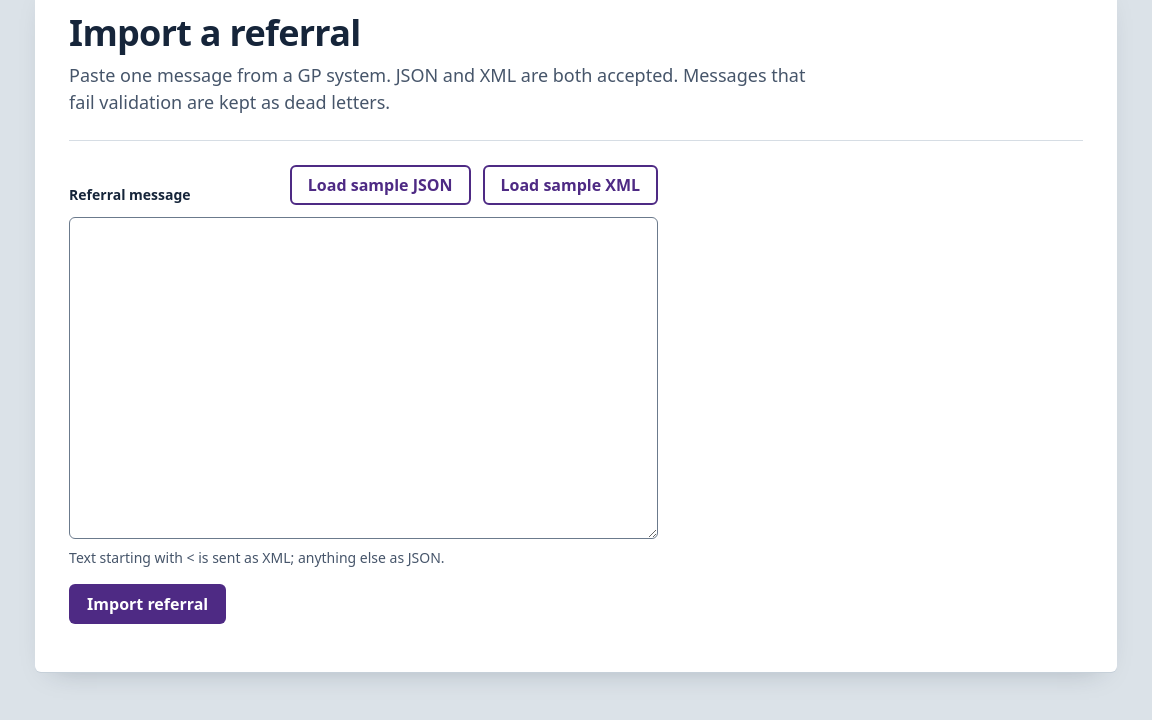
Test: import page › asks for a message before sending anything
(page scrolled)
Click the button "Import referral": (148,604) [69, 584, 226, 624]
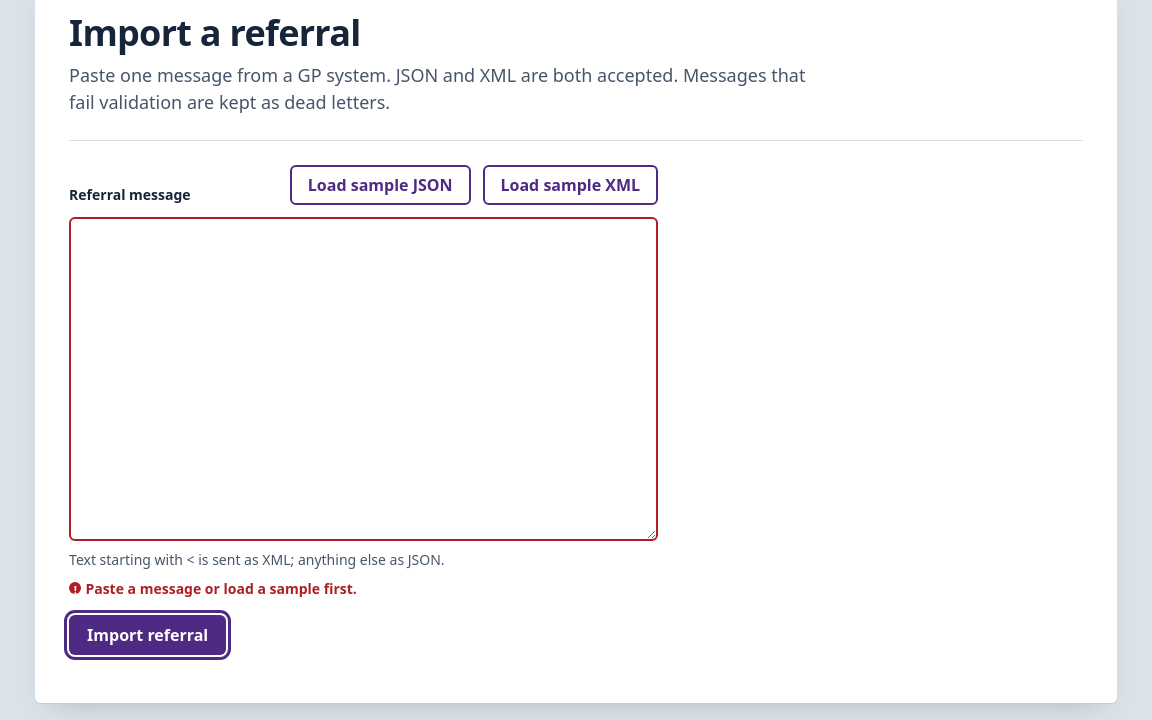
Result: the text "Paste a message or load a sample first." is shown at [85, 579, 357, 598]
